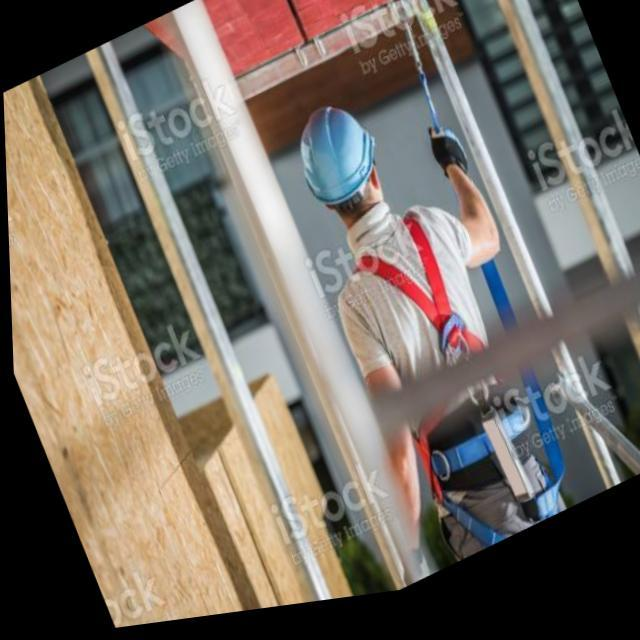belt: (326, 182, 582, 586)
